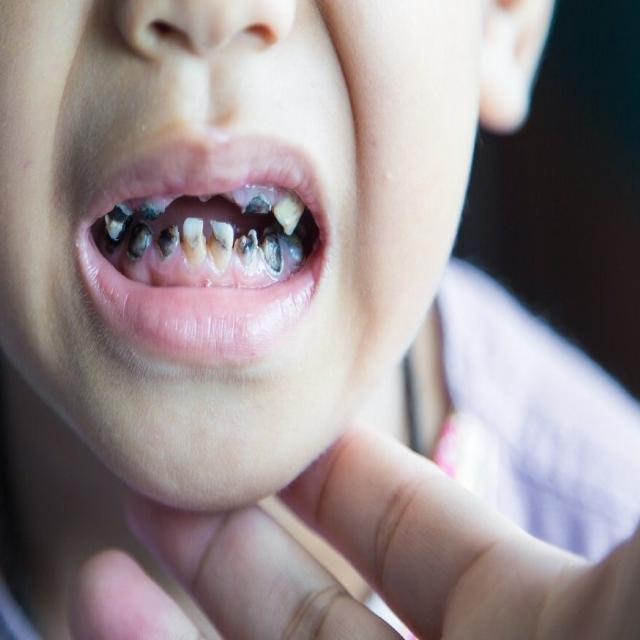Cavity: (225, 186, 275, 216), (237, 225, 259, 287), (211, 217, 234, 275), (260, 228, 285, 280), (184, 218, 205, 270), (155, 225, 180, 261), (132, 227, 154, 262), (105, 205, 126, 240), (283, 207, 309, 235), (135, 200, 165, 224), (289, 237, 309, 267)
